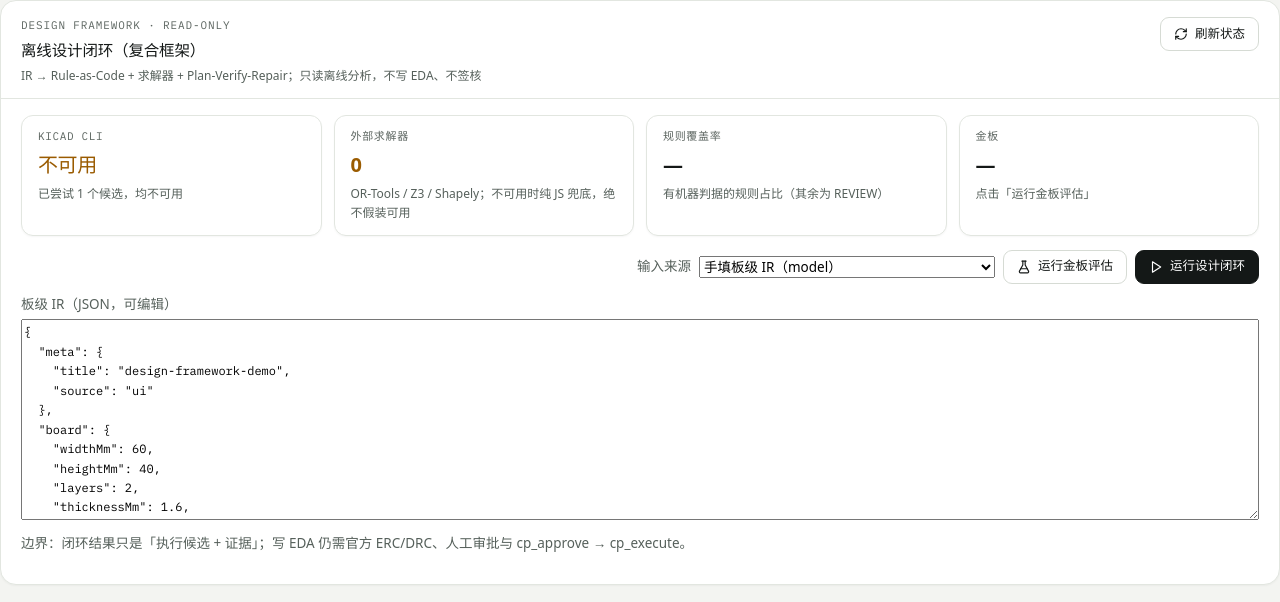
离线设计闭环面板 › 运行金板评估：展示通过数、needs-review/blocked 分布与覆盖率
Click the button "运行金板评估". click: (1065, 267)
box: [1003,250,1127,284]
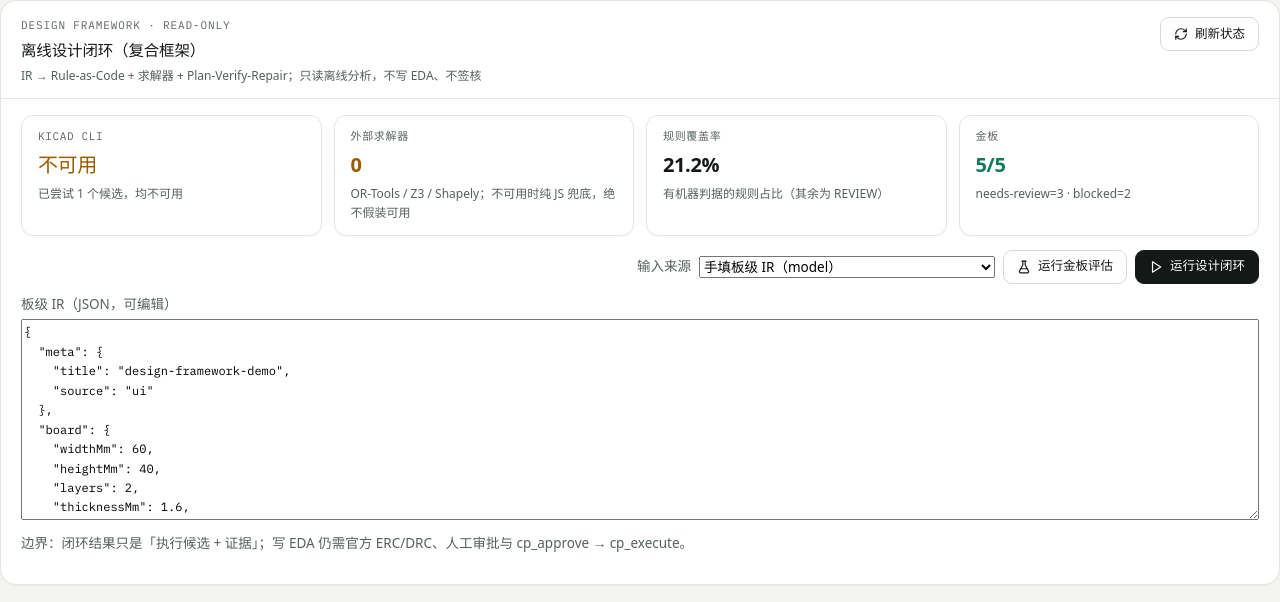
Expected: the text "5/5" is shown, [976,151,1006,178]
Expected: the text "needs-review=3" is shown, [976,185,1131,202]
Expected: the text "21.2%" is shown, [663,151,719,178]
